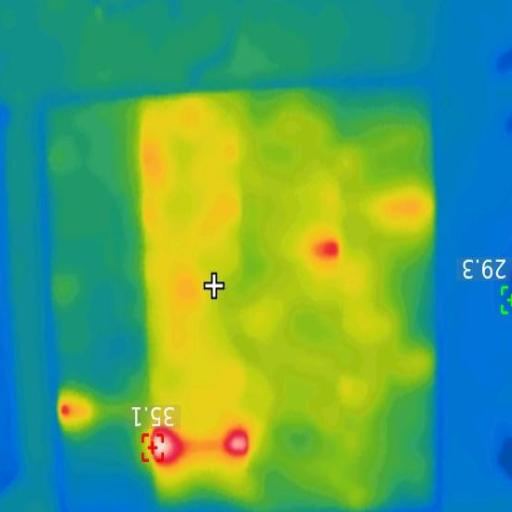hotspot: (148, 422, 182, 469), (218, 424, 252, 456), (312, 238, 340, 258), (57, 396, 68, 422)
